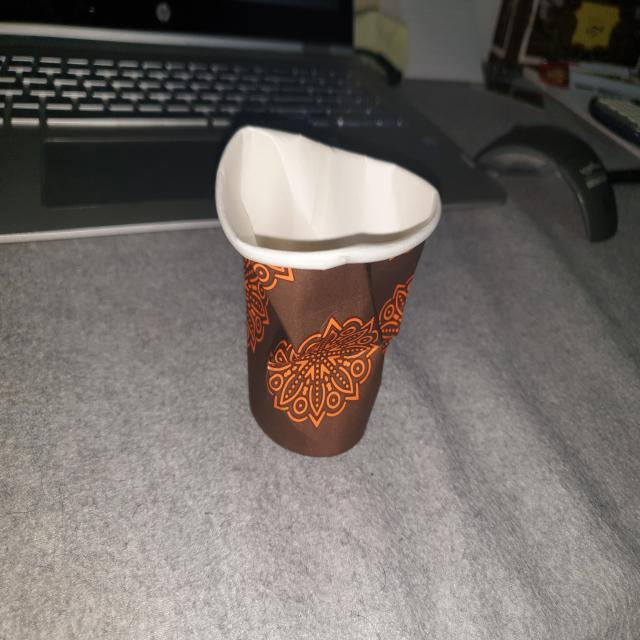cups: (192, 118, 450, 471)
